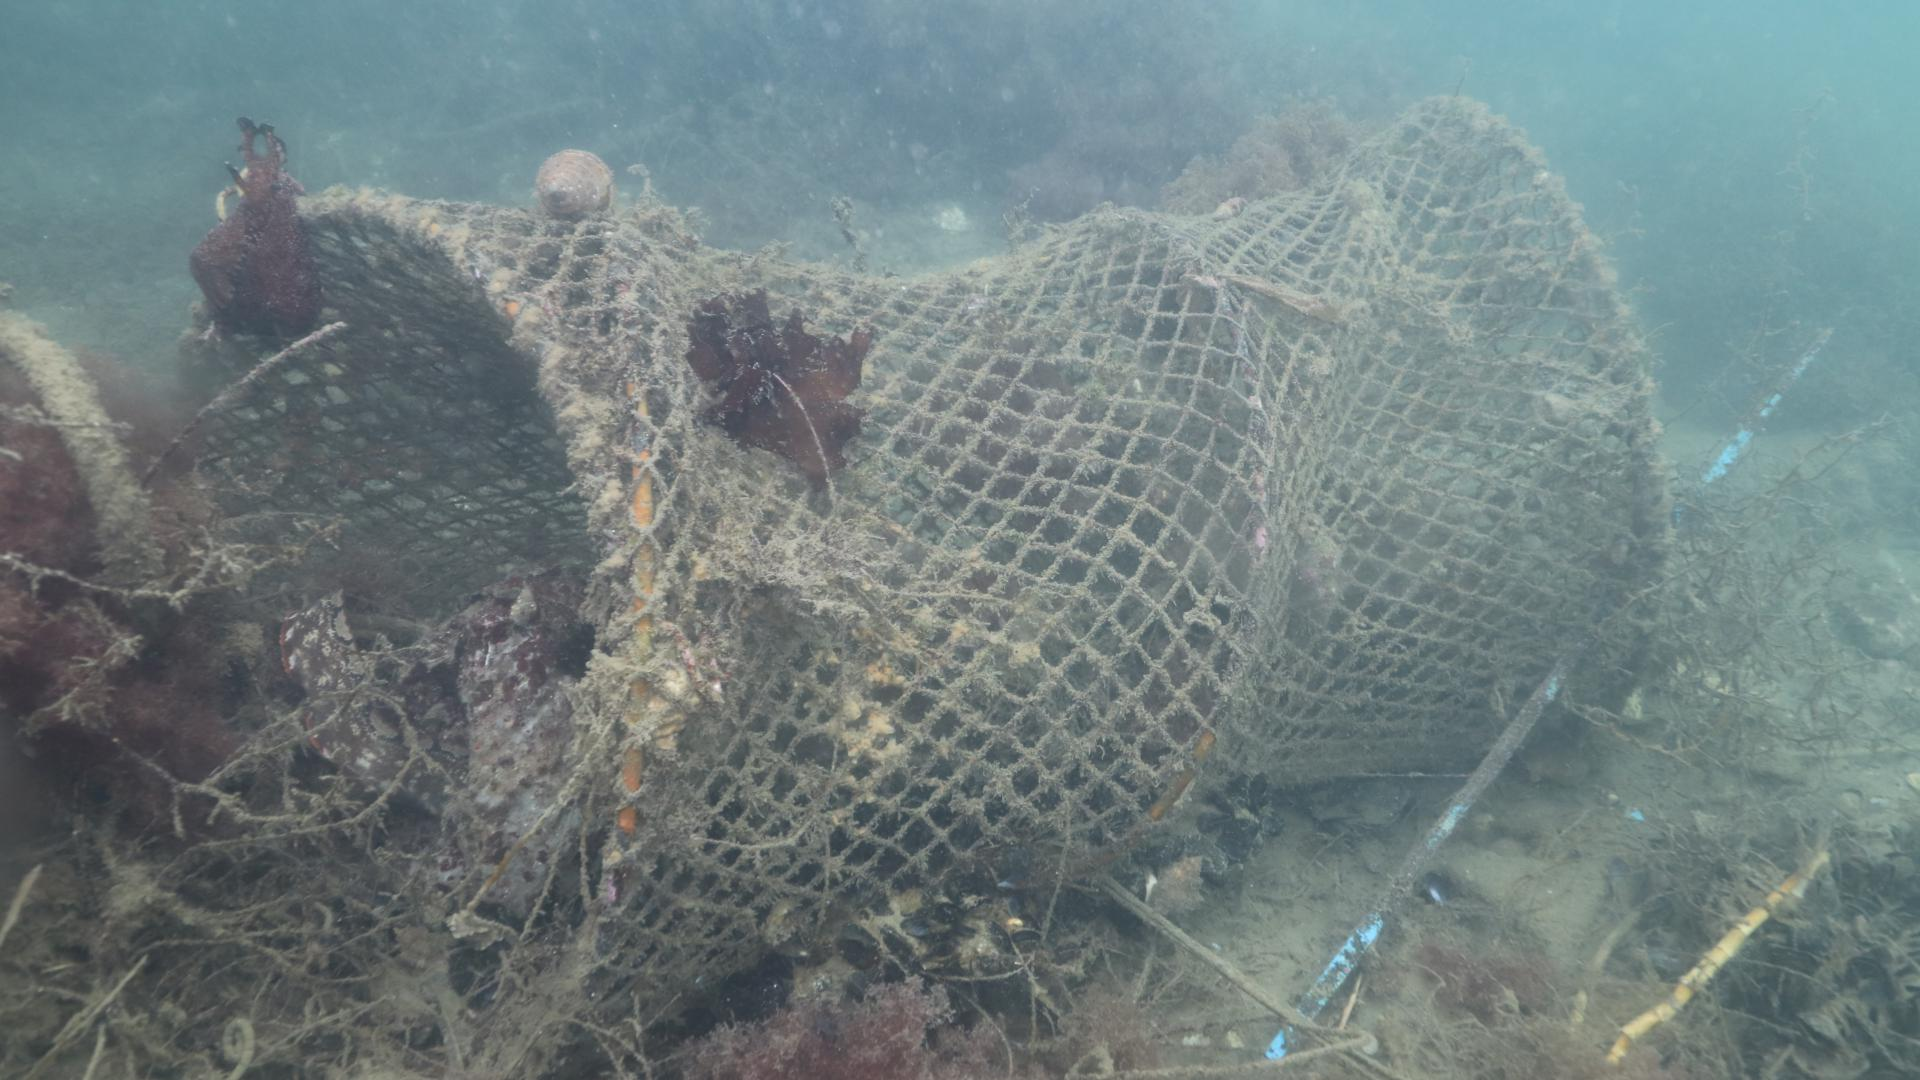rope: (0, 309, 160, 595)
spring fish trap: (170, 91, 1671, 1077)
